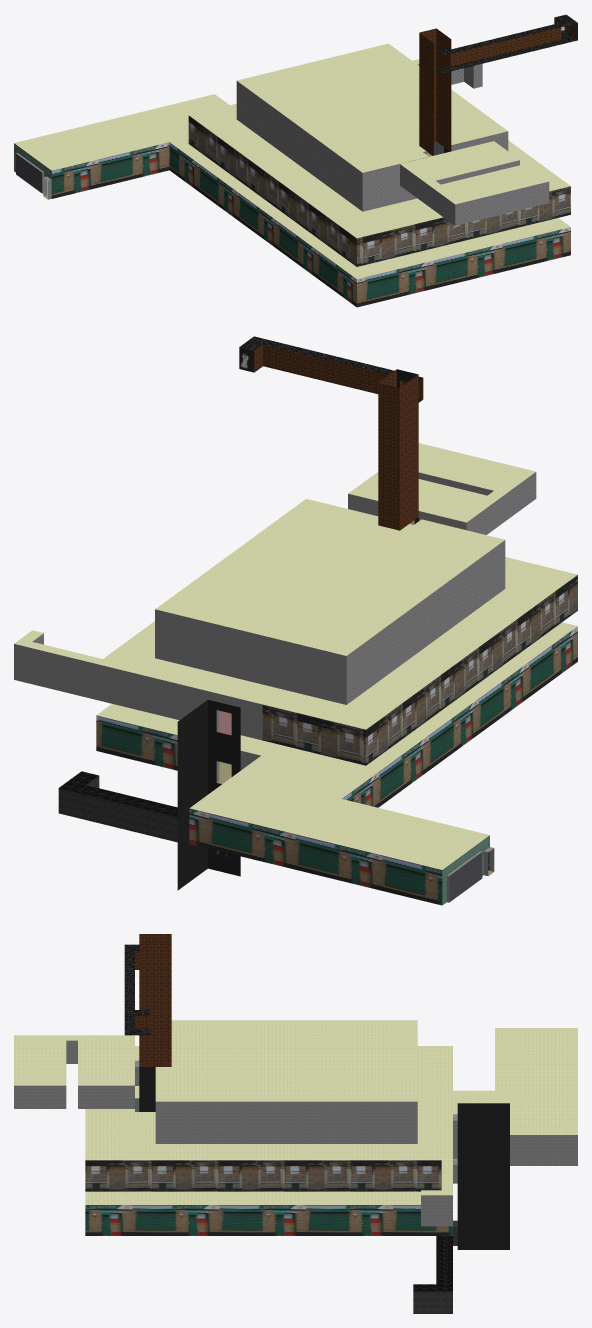
File: duck.dae
3 views of the same model, one above another, from view 1: azimuth 30°, elevation 25°; view 2: azimuth 150°, elevation 25°; view 3: azimuth 270°, elevation 25° (orthographic). The views are drawn at different scales.
Visible parts, largest first — view 1: SketchUp (×14); view 2: SketchUp (×17); view 3: SketchUp (×16).
Boxes of the visible parts, x1,y1,x2,y2 form: SketchUp (×14): (14,14,577,307); SketchUp (×17): (14,336,577,905); SketchUp (×16): (14,934,577,1313).
Bounding box in the file's own units: 1950 × 2175 × 1353.
Materials: 15 (15 with a texture image).
